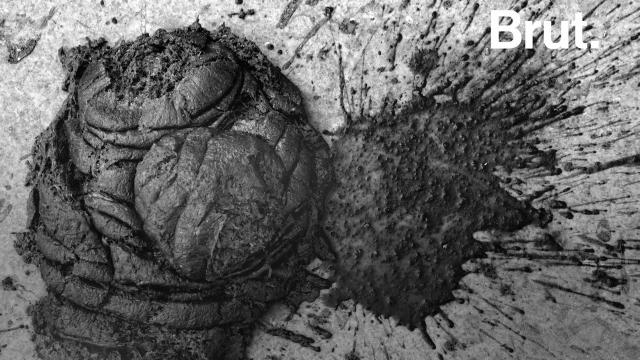spit: (336, 84, 614, 352)
